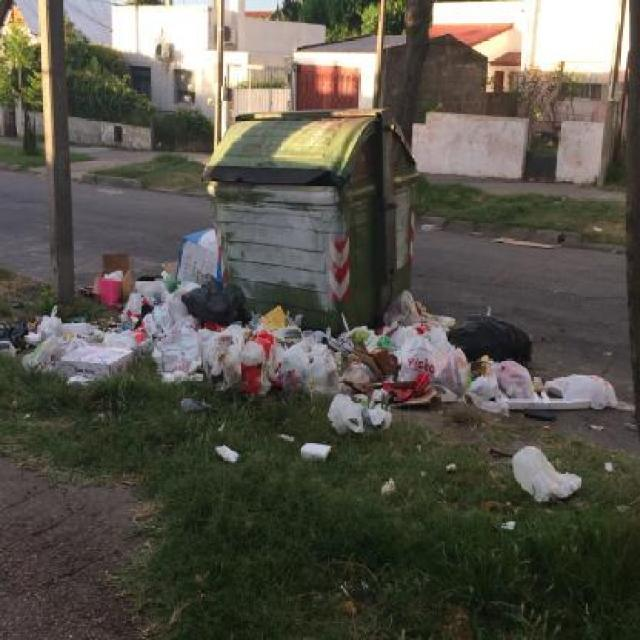garbage: (126, 317, 463, 424), (400, 295, 631, 422), (83, 213, 216, 399), (506, 433, 586, 512)
